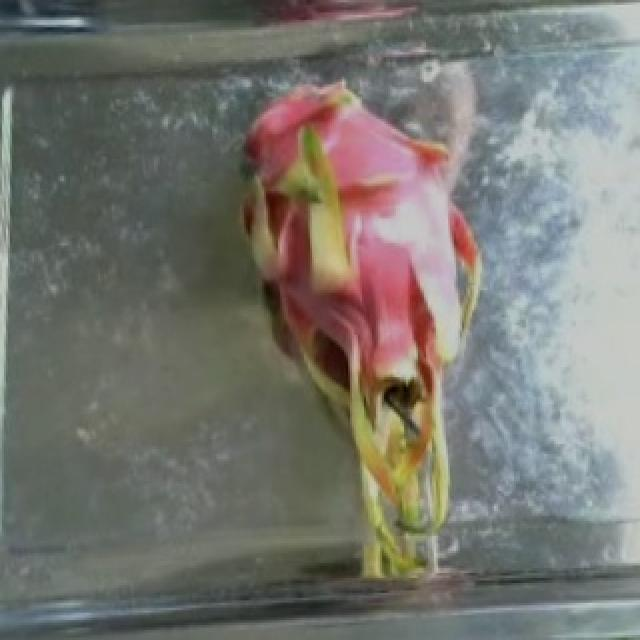fruit: (210, 67, 514, 528)
